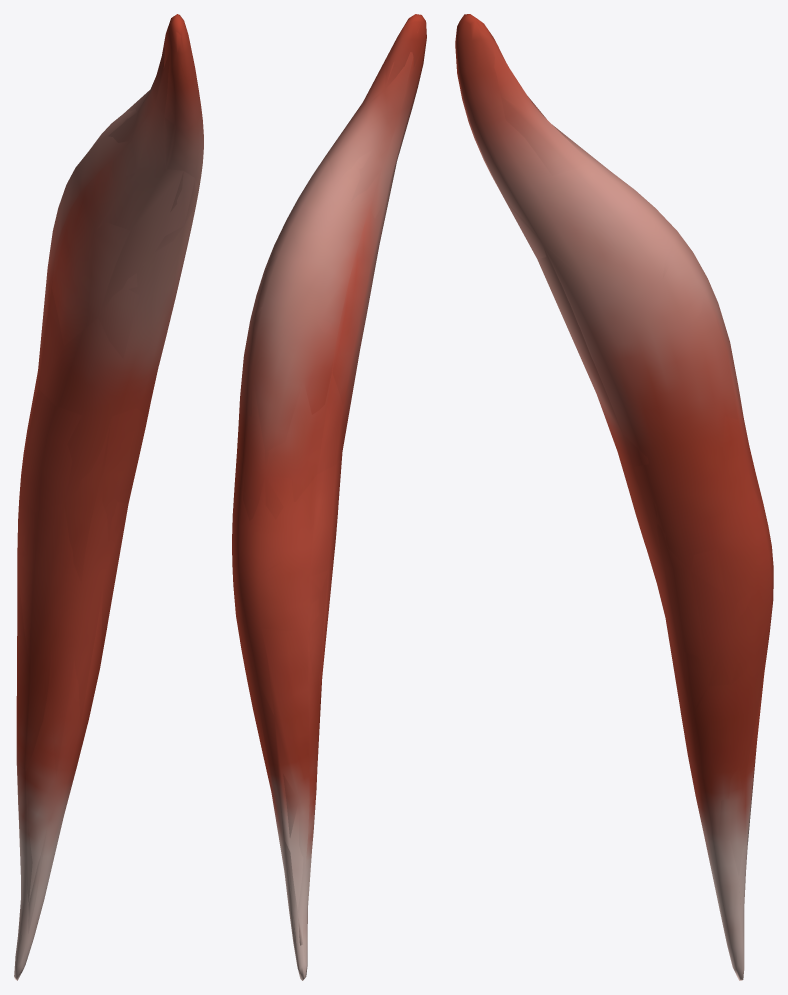
The model's file is R flexor carpi radialis.fbx.
3 views of the same model, side by side, from view 1: azimuth 30°, elevation 25°; view 2: azimuth 150°, elevation 25°; view 3: azimuth 270°, elevation 25° (orthographic). The views are drawn at different scales.
Parts seen in each view (by area): view 1: R flexor carpi radialis low, R flexor carpi radialis; view 2: R flexor carpi radialis, R flexor carpi radialis low; view 3: R flexor carpi radialis, R flexor carpi radialis low.
Part boxes in pixels (left/top/right/bottom): R flexor carpi radialis low: left=16, top=32, right=198, bottom=947; R flexor carpi radialis: left=14, top=14, right=203, bottom=980; R flexor carpi radialis: left=232, top=14, right=426, bottom=980; R flexor carpi radialis low: left=237, top=19, right=424, bottom=964; R flexor carpi radialis: left=455, top=14, right=773, bottom=980; R flexor carpi radialis low: left=457, top=20, right=772, bottom=968.
Size of the model in its own units: 1.32 by 12.36 by 3.67.
